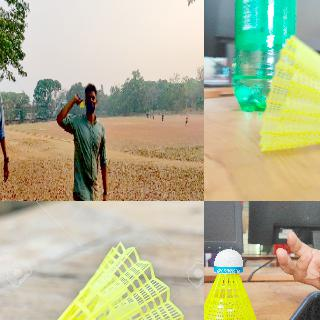shuttlecock: (1, 241, 194, 319), (258, 36, 319, 151), (204, 248, 262, 319), (79, 98, 84, 108)
